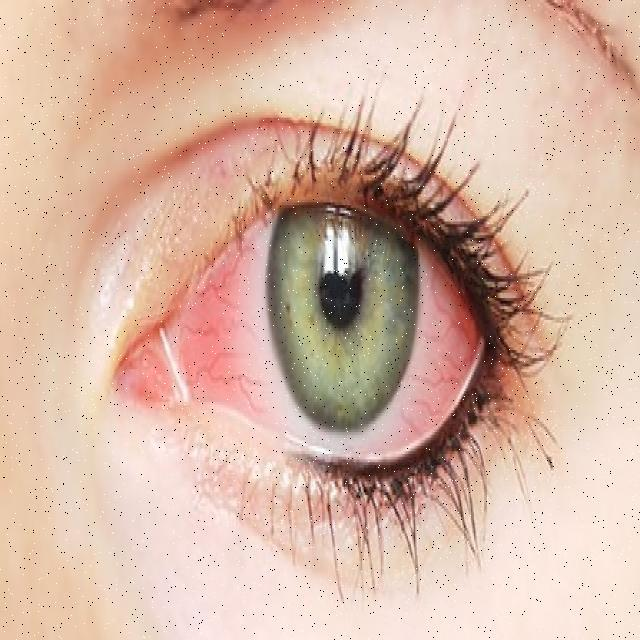Conjunctivitis: (117, 228, 498, 447)
